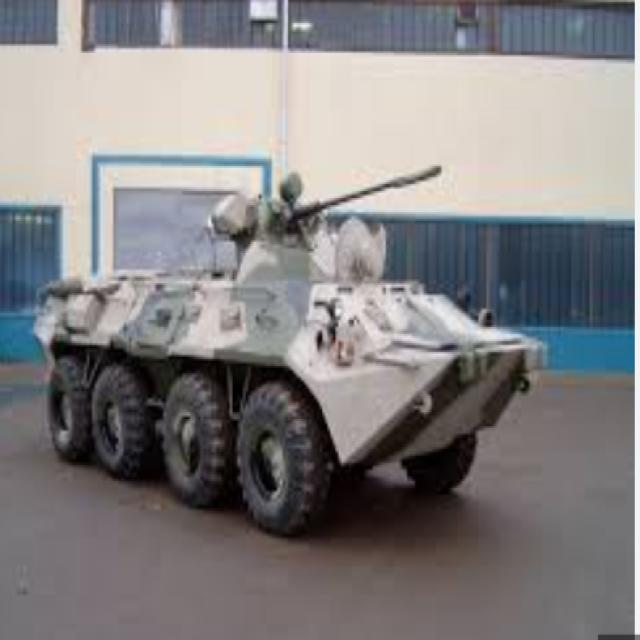MIL_APC: (34, 179, 532, 525)
